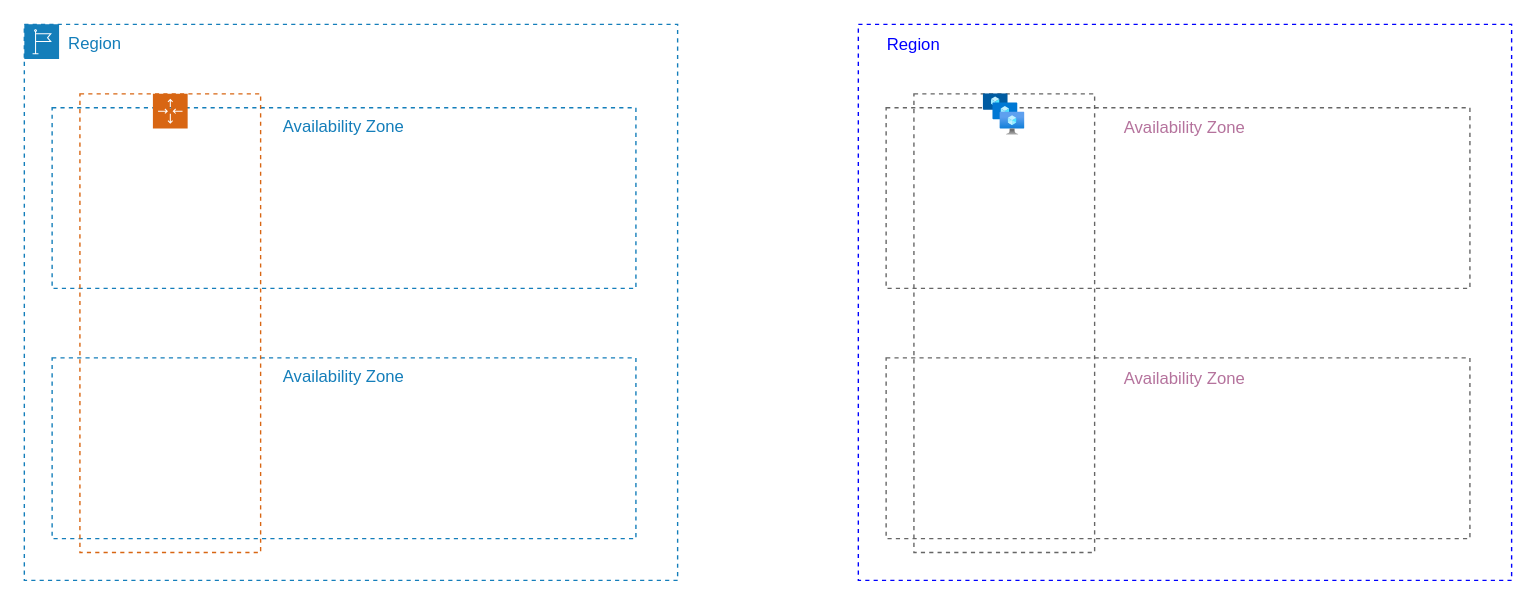
The diagram is 1536 pixels wide and 605 high, and some of its shapes have lost their labels. The shapes that lost their labels are listed below. From the top down, each one's centre as x and y in pixels, then its label:
pixel 1003 114: VM Scale Sets
pixel 170 322: Auto Scaling group
